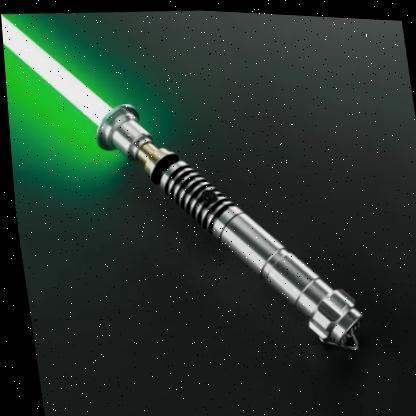lightsaber: (0, 0, 380, 384)
